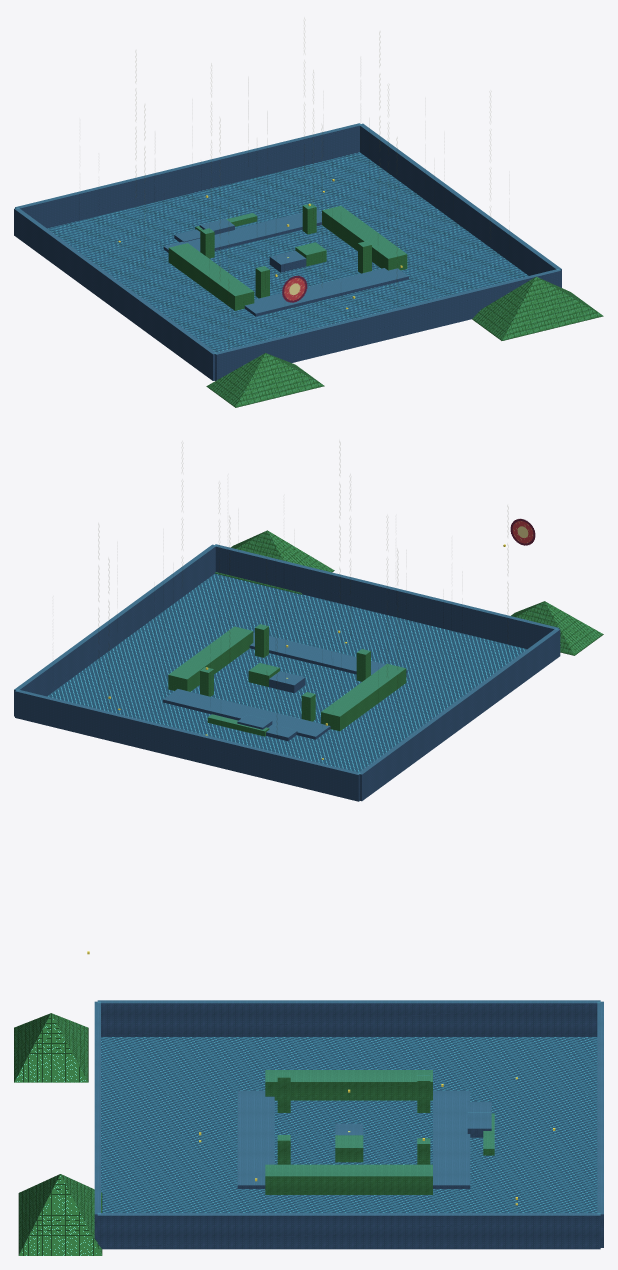
The model's file is sunken-temple.glb.
3 views of the same model, one above another, from view 1: azimuth 30°, elevation 25°; view 2: azimuth 150°, elevation 25°; view 3: azimuth 270°, elevation 25° (orthographic). The views are drawn at different scales.
Visible parts, largest first — view 1: ART_sunken-temple_flooded_temple_floor, WALKABLE_sunken-temple_flooded_temple_floor, ART_sunken-temple_south_ruins, ART_sunken-temple_north_ruins, ART_sunken-temple_west_ruins, ART_sunken-temple_east_ruins, ART_sunken-temple_distant_jungle_mound_east, ART_sunken-temple_distant_jungle_mound_west, ART_sunken-temple_left_broken_wall, ART_sunken-temple_raised_walkway_north, ART_sunken-temple_right_broken_wall, ART_sunken-temple_raised_walkway_south (+10 smaller); view 2: ART_sunken-temple_flooded_temple_floor, WALKABLE_sunken-temple_flooded_temple_floor, ART_sunken-temple_south_ruins, ART_sunken-temple_north_ruins, ART_sunken-temple_west_ruins, ART_sunken-temple_east_ruins, ART_sunken-temple_left_broken_wall, ART_sunken-temple_raised_walkway_south, ART_sunken-temple_right_broken_wall, WALKABLE_sunken-temple_raised_walkway_south, ART_sunken-temple_distant_jungle_mound_west, ART_sunken-temple_raised_walkway_north (+12 smaller); view 3: ART_sunken-temple_flooded_temple_floor, WALKABLE_sunken-temple_flooded_temple_floor, ART_sunken-temple_east_ruins, ART_sunken-temple_west_ruins, ART_sunken-temple_distant_jungle_mound_east, ART_sunken-temple_right_broken_wall, ART_sunken-temple_distant_jungle_mound_west, ART_sunken-temple_left_broken_wall, ART_sunken-temple_raised_walkway_south, ART_sunken-temple_raised_walkway_north, WALKABLE_sunken-temple_raised_walkway_south, WALKABLE_sunken-temple_raised_walkway_north (+10 smaller).
Part boxes in pixels (<box>): ART_sunken-temple_flooded_temple_floor: <box>47,152,528,380</box>; WALKABLE_sunken-temple_flooded_temple_floor: <box>48,152,527,351</box>; ART_sunken-temple_south_ruins: <box>15,123,361,228</box>; ART_sunken-temple_north_ruins: <box>215,269,561,380</box>; ART_sunken-temple_west_ruins: <box>14,208,215,380</box>; ART_sunken-temple_east_ruins: <box>360,123,561,287</box>; ART_sunken-temple_distant_jungle_mound_east: <box>472,276,603,340</box>; ART_sunken-temple_distant_jungle_mound_west: <box>206,353,324,407</box>; ART_sunken-temple_left_broken_wall: <box>168,243,254,310</box>; ART_sunken-temple_raised_walkway_north: <box>244,268,408,316</box>; ART_sunken-temple_right_broken_wall: <box>322,206,407,270</box>; ART_sunken-temple_raised_walkway_south: <box>163,209,321,252</box>; ART_sunken-temple_flooded_temple_floor: <box>47,573,526,801</box>; WALKABLE_sunken-temple_flooded_temple_floor: <box>48,574,526,771</box>; ART_sunken-temple_south_ruins: <box>15,689,360,801</box>; ART_sunken-temple_north_ruins: <box>214,544,559,649</box>; ART_sunken-temple_west_ruins: <box>359,628,560,801</box>; ART_sunken-temple_east_ruins: <box>14,544,215,716</box>; ART_sunken-temple_left_broken_wall: <box>321,664,406,731</box>; ART_sunken-temple_raised_walkway_south: <box>163,689,330,739</box>; ART_sunken-temple_right_broken_wall: <box>168,626,253,691</box>; WALKABLE_sunken-temple_raised_walkway_south: <box>163,689,329,736</box>; ART_sunken-temple_distant_jungle_mound_west: <box>511,601,603,655</box>; ART_sunken-temple_raised_walkway_north: <box>249,632,407,674</box>; ART_sunken-temple_flooded_temple_floor: <box>101,1037,597,1212</box>; WALKABLE_sunken-temple_flooded_temple_floor: <box>101,1037,596,1212</box>; ART_sunken-temple_east_ruins: <box>97,1213,600,1249</box>; ART_sunken-temple_west_ruins: <box>97,1000,600,1036</box>; ART_sunken-temple_distant_jungle_mound_east: <box>18,1174,102,1255</box>; ART_sunken-temple_right_broken_wall: <box>265,1164,432,1194</box>; ART_sunken-temple_distant_jungle_mound_west: <box>14,1013,88,1082</box>; ART_sunken-temple_left_broken_wall: <box>265,1070,432,1100</box>; ART_sunken-temple_raised_walkway_south: <box>433,1090,470,1188</box>; ART_sunken-temple_raised_walkway_north: <box>237,1090,274,1188</box>; WALKABLE_sunken-temple_raised_walkway_south: <box>433,1091,469,1184</box>; WALKABLE_sunken-temple_raised_walkway_north: <box>238,1091,274,1184</box>.
Size of what is drawn, in the model's own units: 58 by 36.73 by 63.35.
7 materials, 5 textured.
